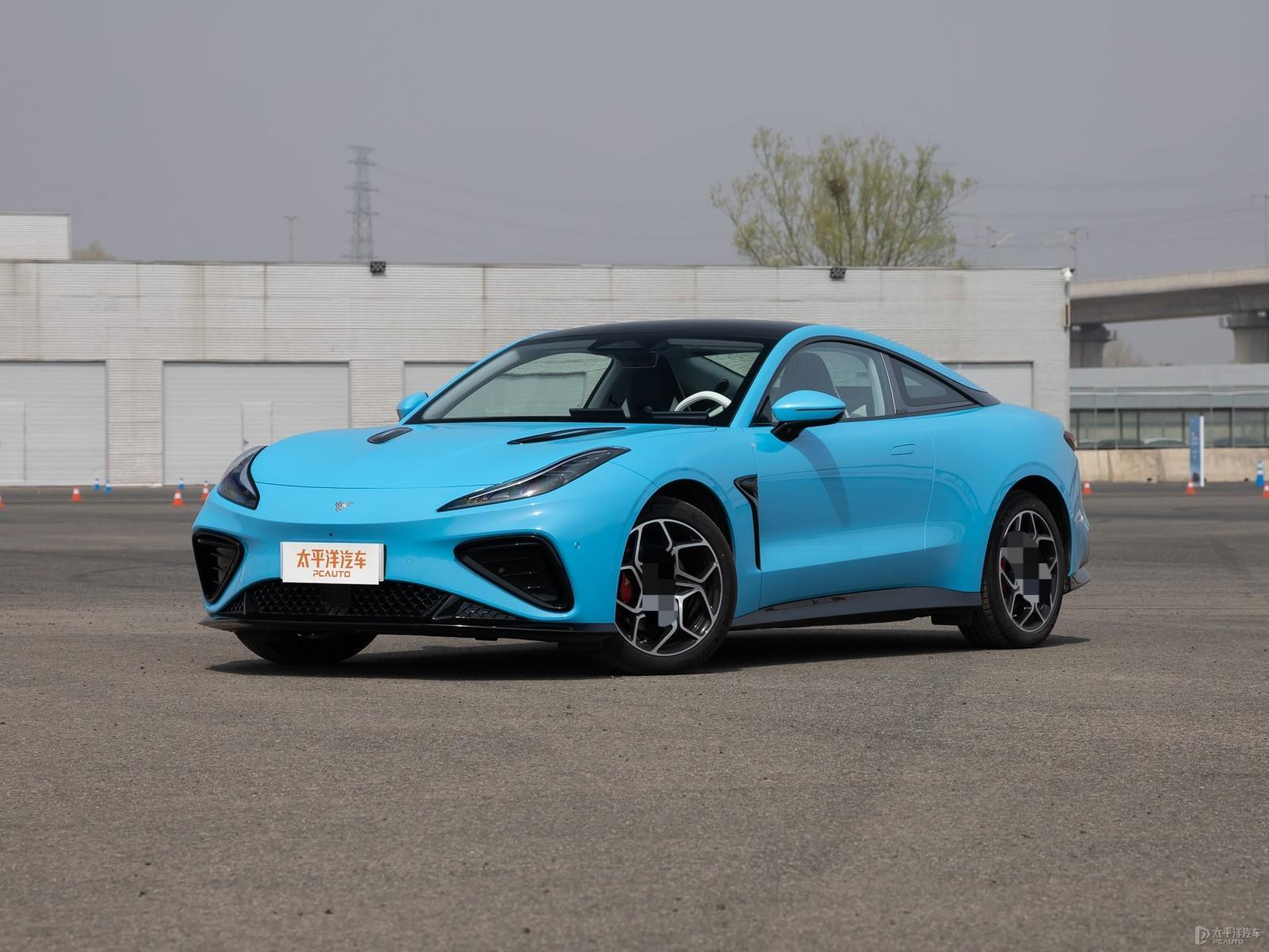NETA: (332, 500, 355, 514)
